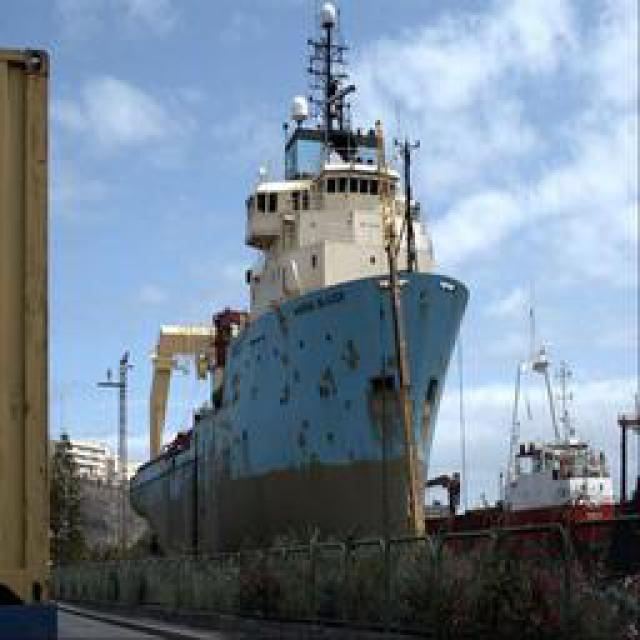Ship: (129, 16, 534, 569)
